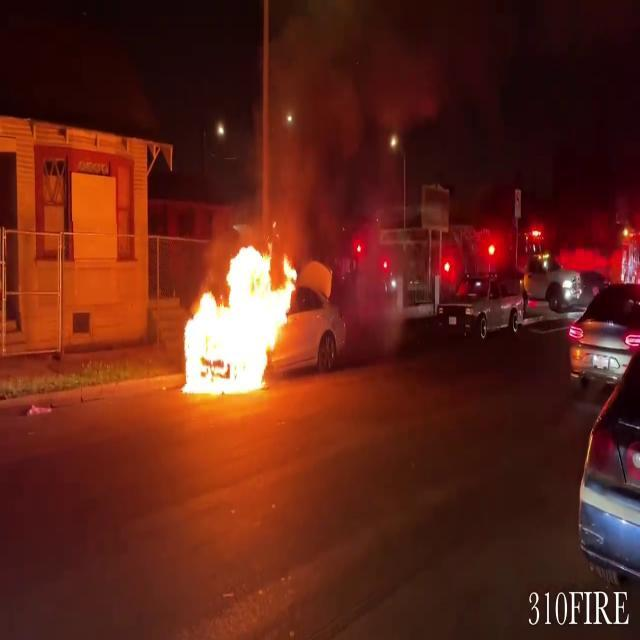Fire: (176, 233, 300, 400)
Smoke: (244, 0, 445, 237)
